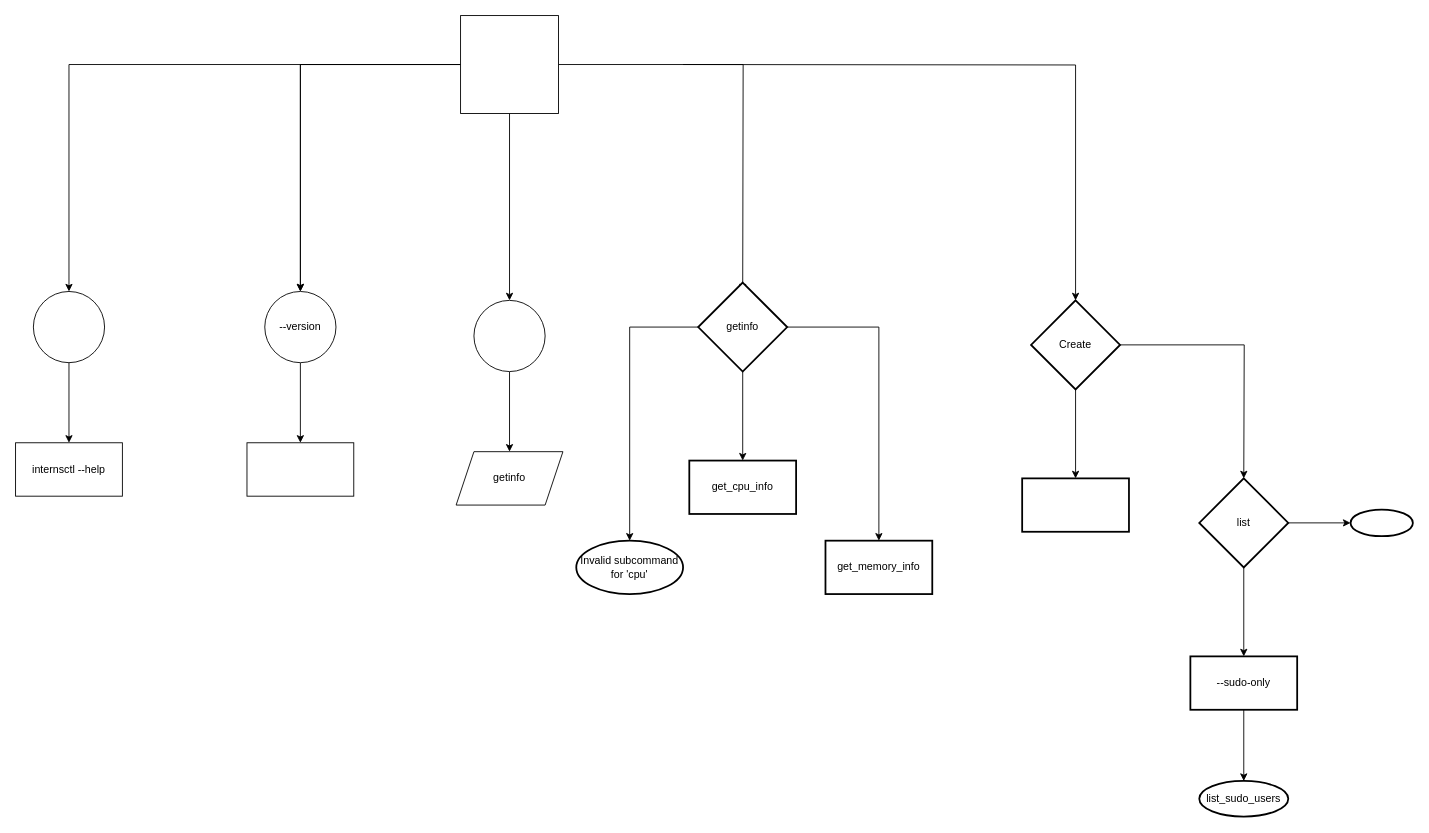
The diagram is 1429 pixels wide and 833 high, and some of its shapes have lost their labels. The shapes that lost their labels are listed below. From the top down, each one's box as (x1, y1, x2, y2) in pixels, then its label:
(460, 15, 558, 113): internsctl
(32, 291, 105, 363): --help
(473, 299, 545, 372): cpu
(246, 442, 354, 496): display_version
(1021, 477, 1129, 532): create_user
(1349, 508, 1413, 537): list_users
